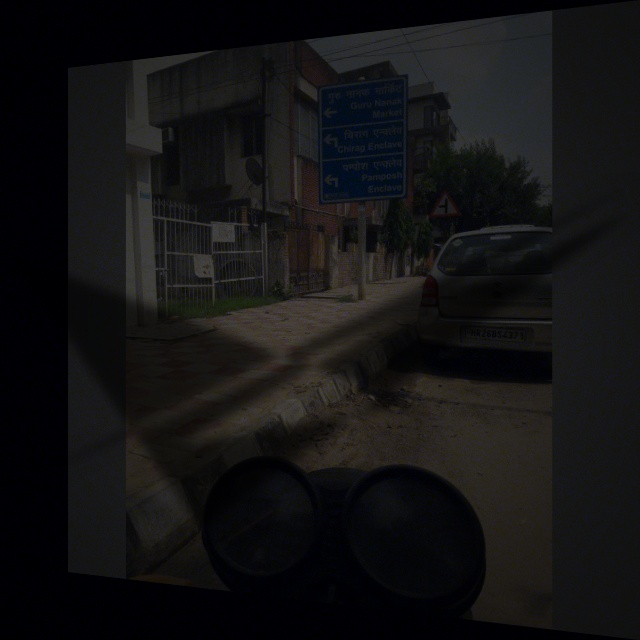Side_Road_Left: (425, 181, 463, 221)
